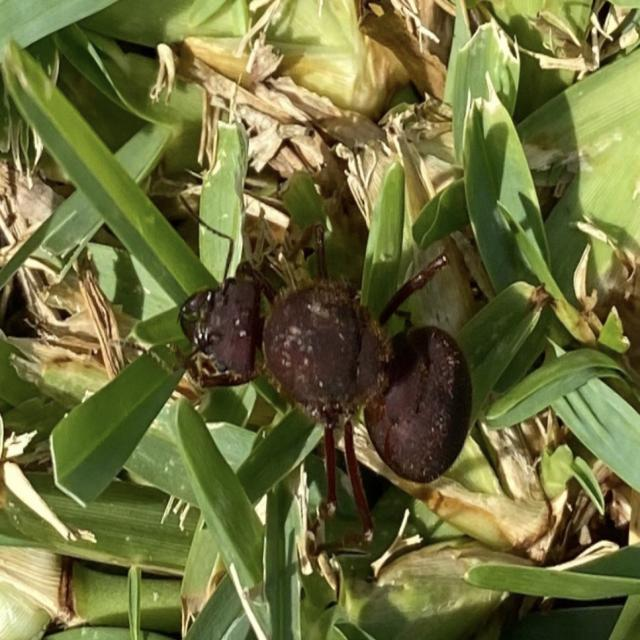Alive-Female-Dealate: (107, 192, 473, 602)
